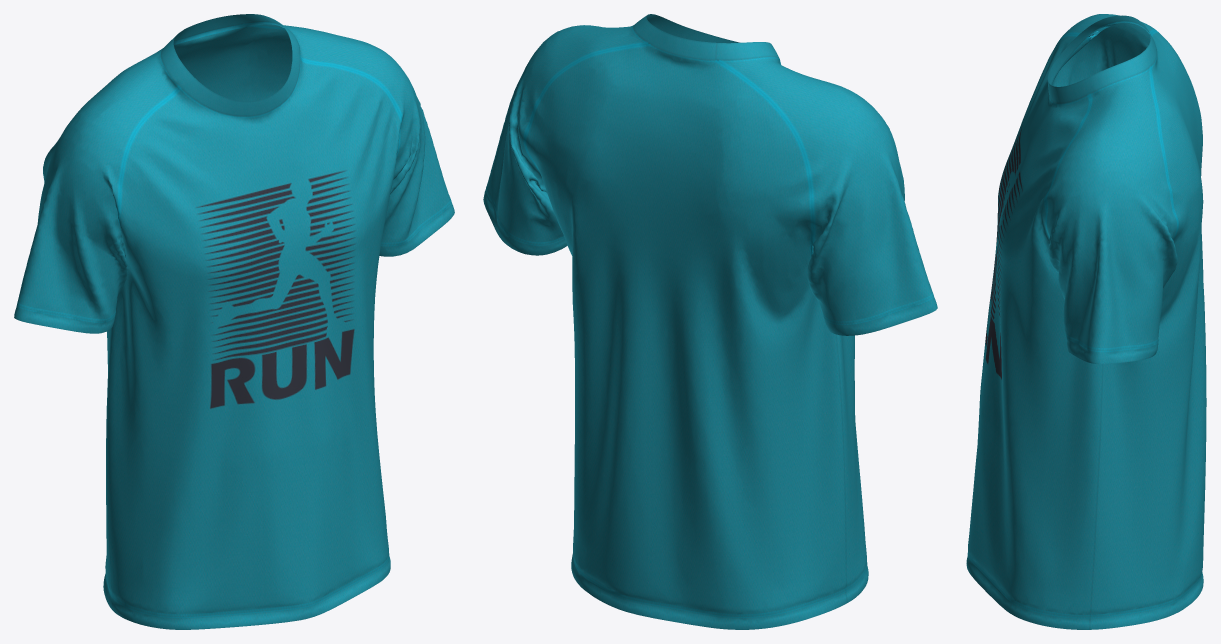
File: tshirt.glb
The picture shows the model from 3 angles, left to right: view 1: azimuth 30°, elevation 25°; view 2: azimuth 150°, elevation 25°; view 3: azimuth 270°, elevation 25°; orthographic projection. The views are drawn at different scales.
Visible parts, largest first — view 1: RAGLAN%20TEE%2001_(OPTIMIZED).obj_0; view 2: RAGLAN%20TEE%2001_(OPTIMIZED).obj_0; view 3: RAGLAN%20TEE%2001_(OPTIMIZED).obj_0.
Part boxes in pixels (x1,y1,x2,y2): RAGLAN%20TEE%2001_(OPTIMIZED).obj_0: (14,14,454,629); RAGLAN%20TEE%2001_(OPTIMIZED).obj_0: (483,14,937,629); RAGLAN%20TEE%2001_(OPTIMIZED).obj_0: (966,14,1206,629).
Size of the model in its own units: 23.66 by 28.07 by 11.39.
Materials: 1 (1 with a texture image).
